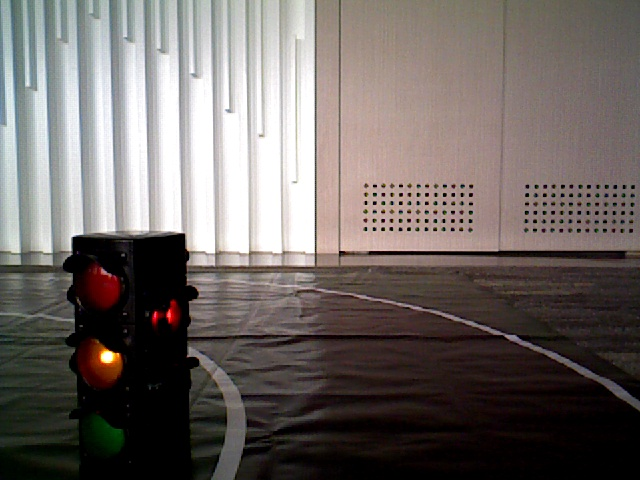yellow: (68, 238, 142, 467)
